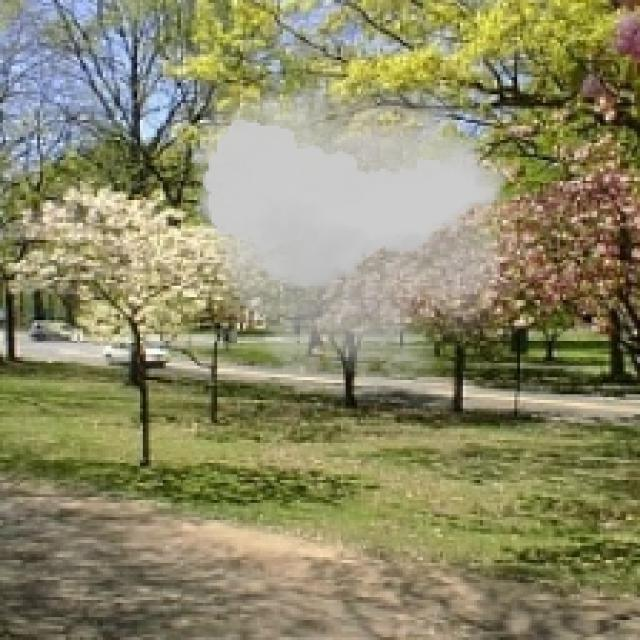Smoke: (180, 59, 529, 414)
